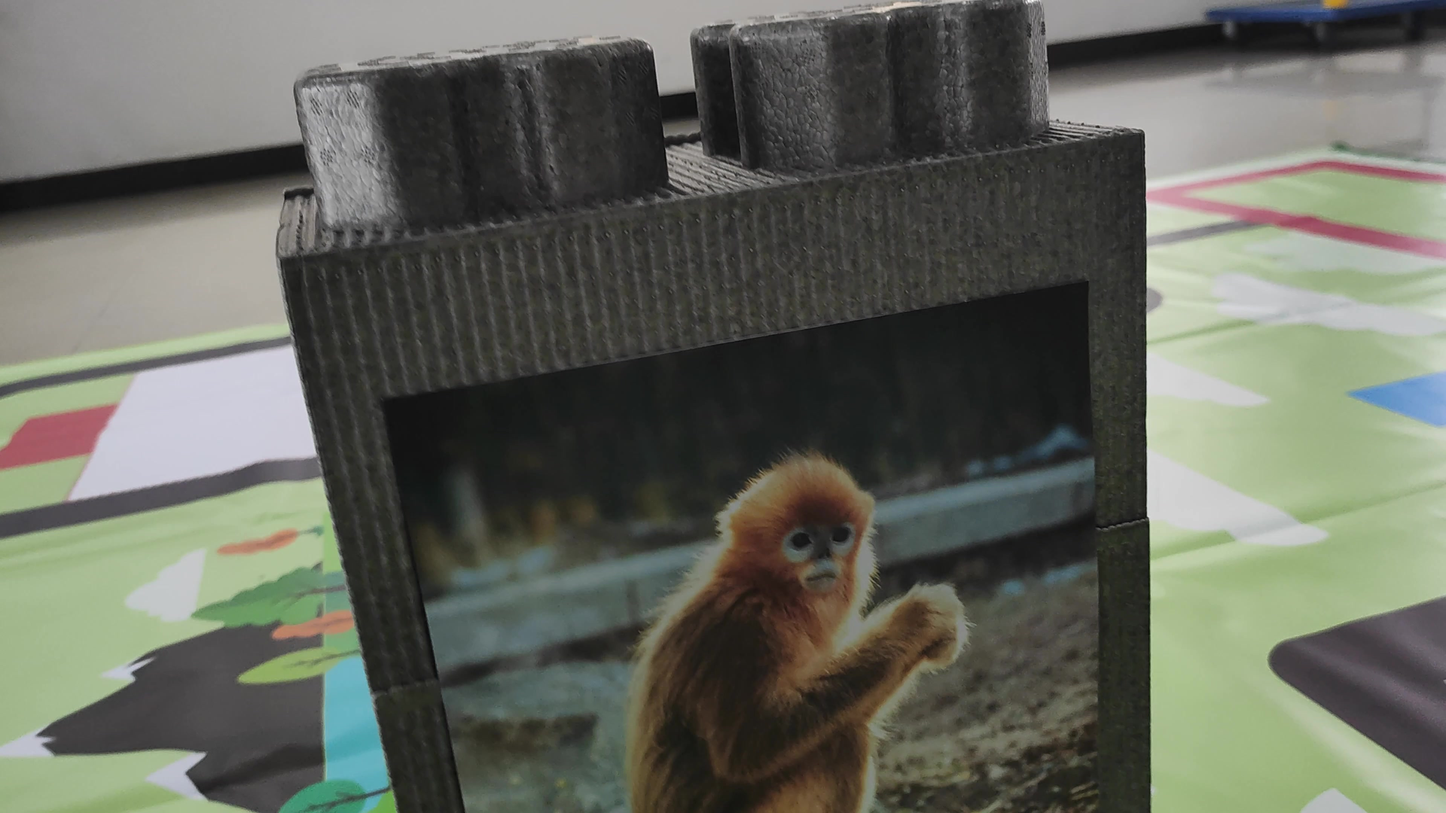monkey: (621, 446, 964, 813)
